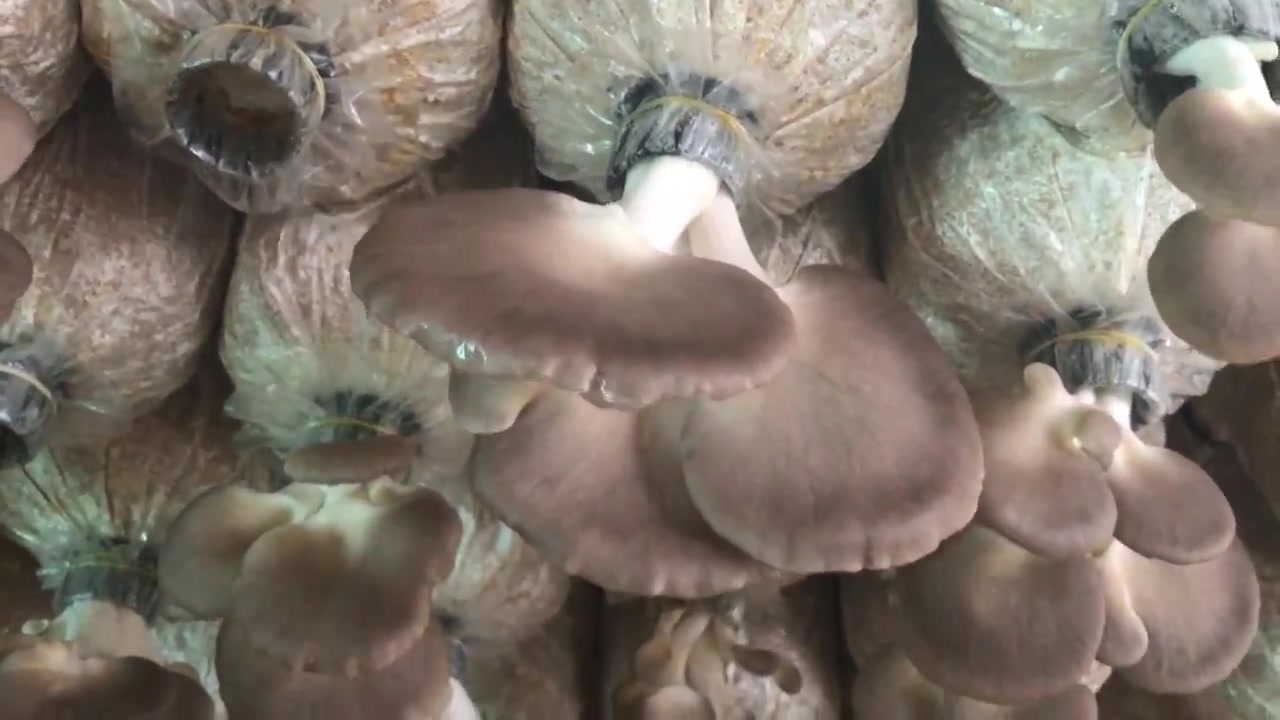nam: (349, 101, 984, 595), (888, 330, 1259, 704), (159, 422, 460, 720), (1116, 1, 1280, 367), (1, 567, 213, 720), (612, 598, 802, 720), (1, 90, 31, 327)
